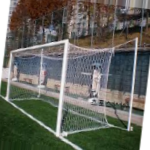goals: (7, 37, 116, 138)
